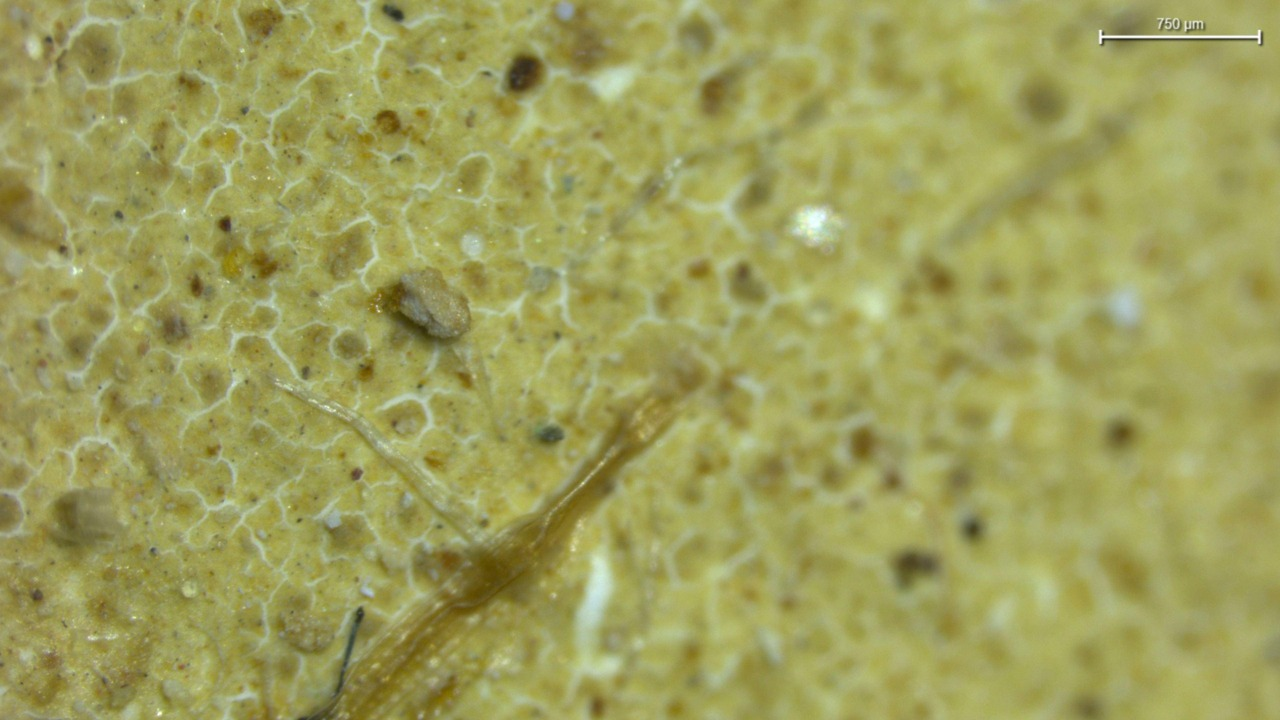microplastic_fragment: (399, 267, 471, 339)
